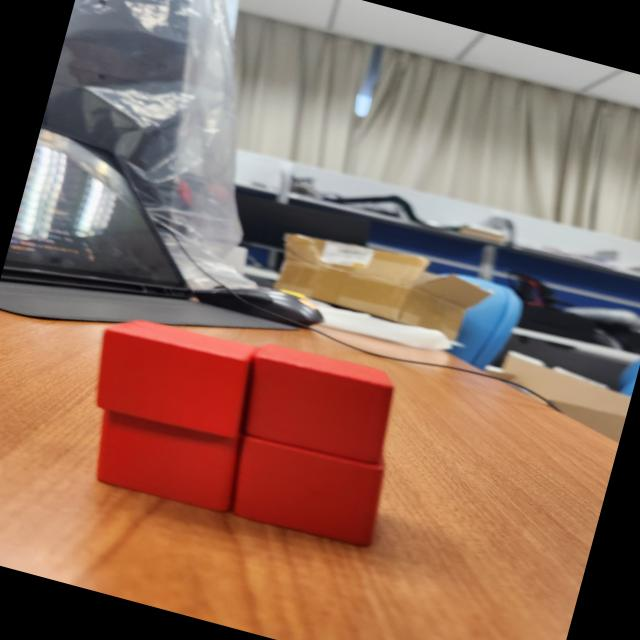red: (80, 307, 267, 447), (212, 419, 395, 552), (234, 337, 406, 469), (84, 391, 253, 517)
